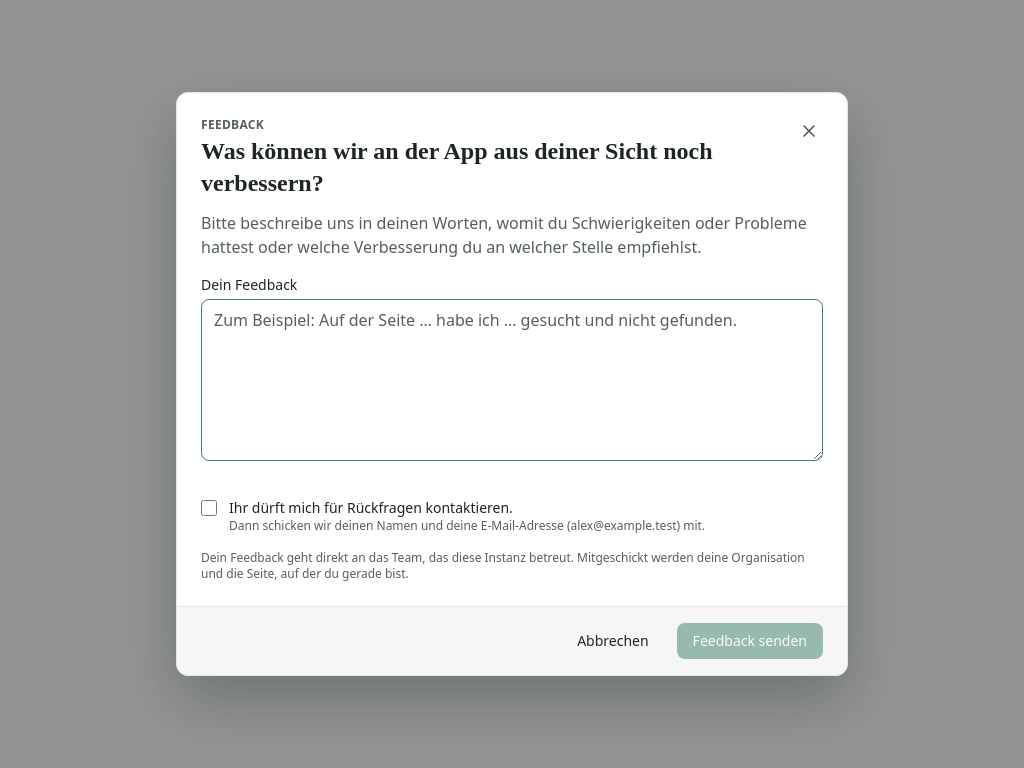
Test case: FeedbackModal › bittet bei zu vielen Versuchen um Geduld und behält den Text
Replace the text in the text box labelled "Dein Feedback" with "Nochmal": (512, 380) [201,299,823,461]
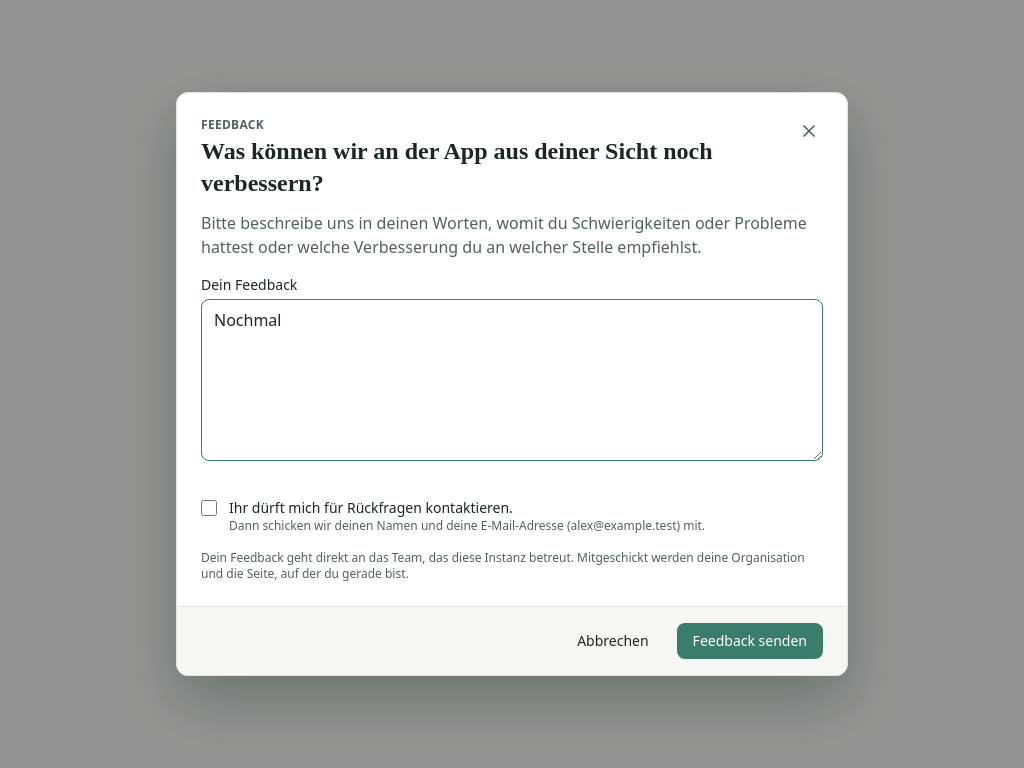
Click the button "Feedback senden": (750, 641) [677,623,823,659]
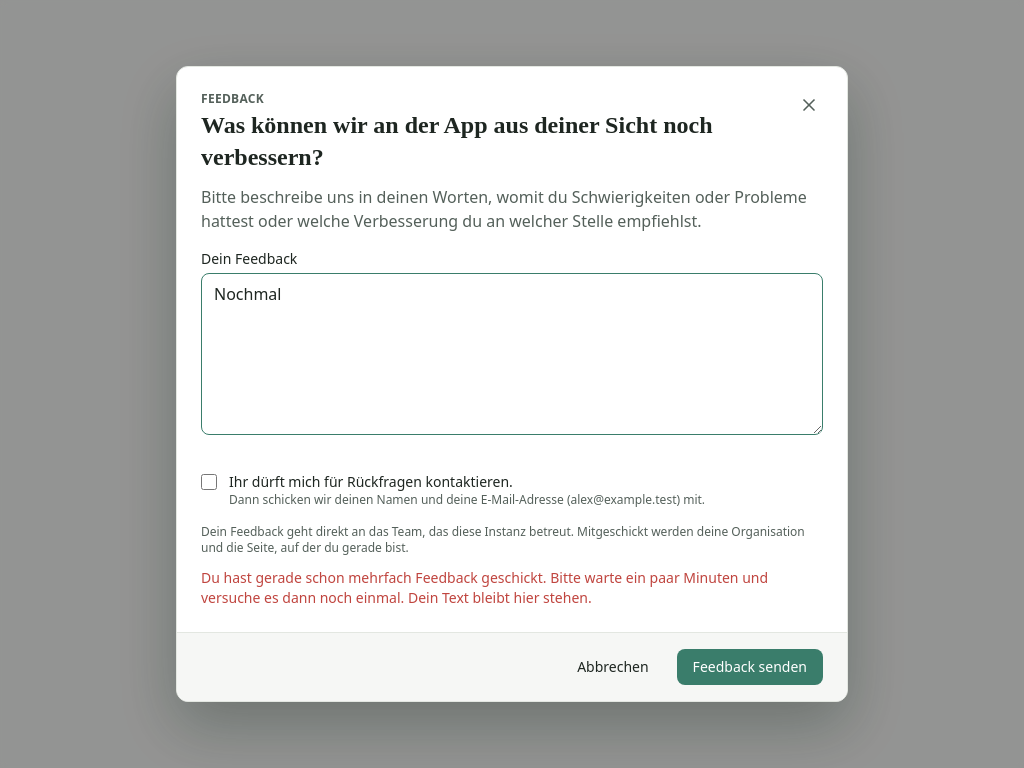
Check: the message shows "ein paar Minuten", box [201,568,768,607]
